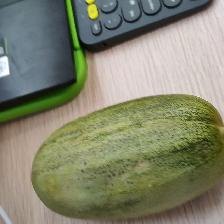gua: (26, 109, 217, 209)
